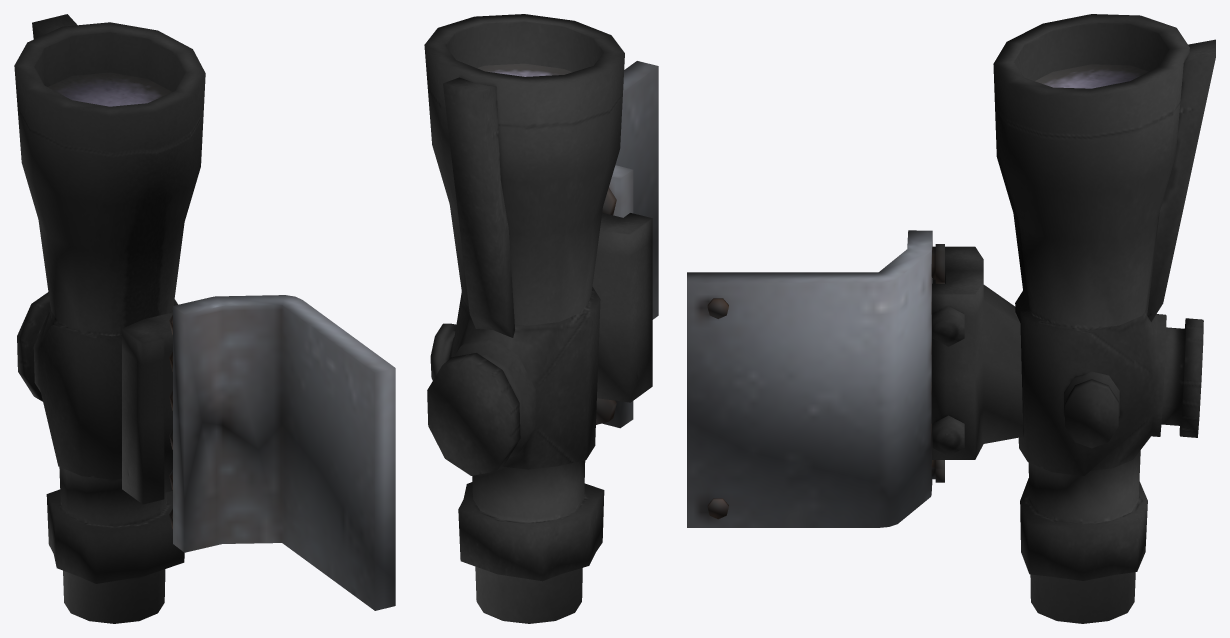
The model's file is TLOG_MountAcog.fbx.
The picture shows the model from 3 angles, left to right: view 1: azimuth 30°, elevation 25°; view 2: azimuth 150°, elevation 25°; view 3: azimuth 270°, elevation 25°; orthographic projection. The views are drawn at different scales.
Visible parts, largest first — view 1: Cube.004; view 2: Cube.004; view 3: Cube.004.
Part boxes in pixels (box(x1,y1,x2,y2)): Cube.004: box(14, 14, 395, 623); Cube.004: box(424, 14, 658, 623); Cube.004: box(687, 14, 1215, 623).
Size of the model in its own units: 0.03 by 0.0867 by 0.075.
